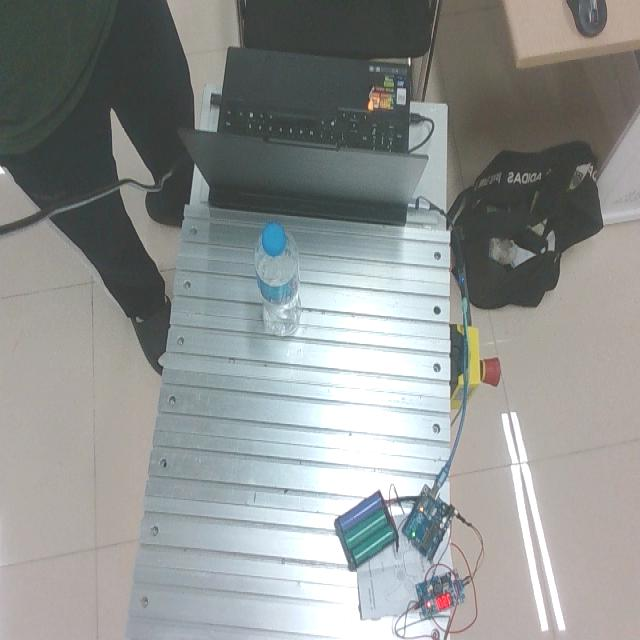lavie: (256, 223, 302, 336)
